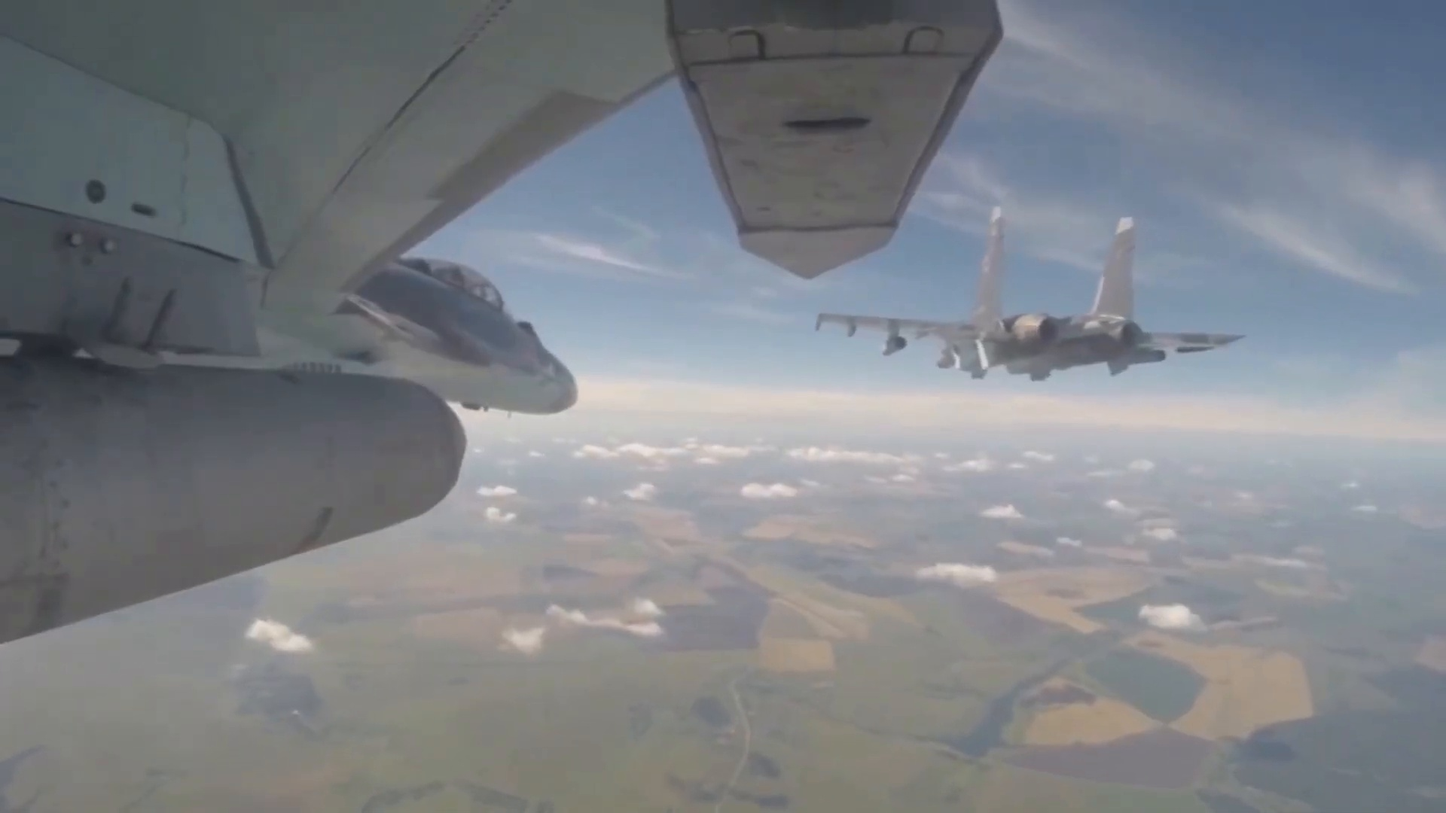Su35: (0, 0, 1004, 644), (813, 208, 1246, 380)
